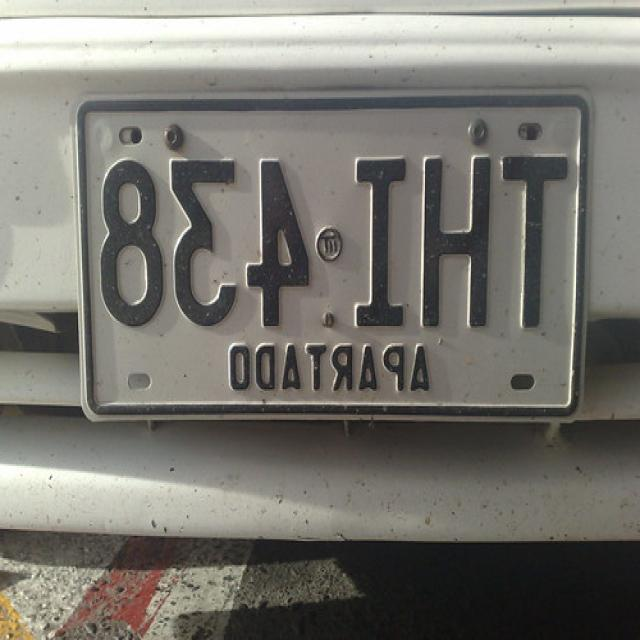placas: (93, 147, 573, 340)
